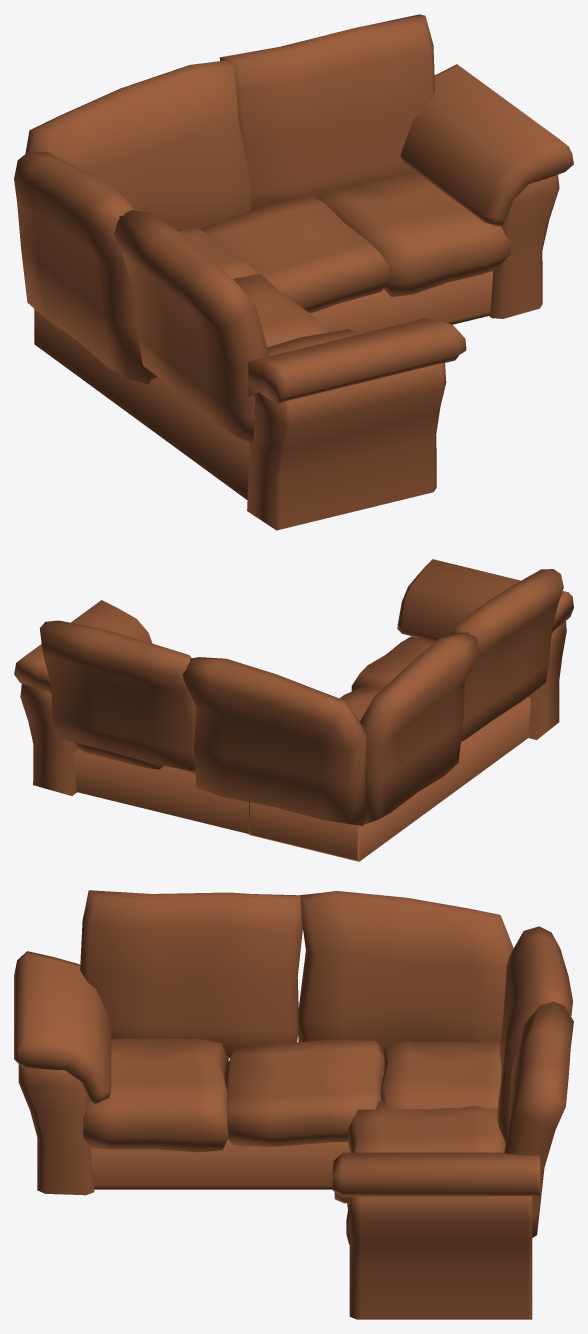
Rendered from SofaLShape.fbx.
3 renders of one model, top to bottom at view 1: azimuth 30°, elevation 25°; view 2: azimuth 150°, elevation 25°; view 3: azimuth 270°, elevation 25°, orthographic. The views are drawn at different scales.
Parts seen in each view (by area): view 1: SofaLShape; view 2: SofaLShape; view 3: SofaLShape.
Part boxes in pixels (<box>): SofaLShape: <box>14,14,573,530</box>; SofaLShape: <box>14,559,573,861</box>; SofaLShape: <box>14,890,573,1319</box>.
Bounding box in the file's own units: 364 × 163 × 373.
